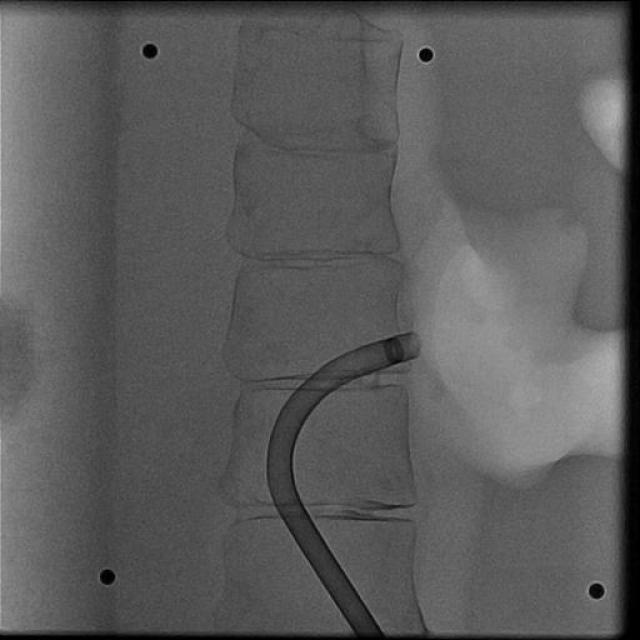bend: (268, 477, 294, 493)
entry: (353, 627, 385, 637)
marker: (384, 336, 404, 366)
tip: (408, 333, 422, 357)
